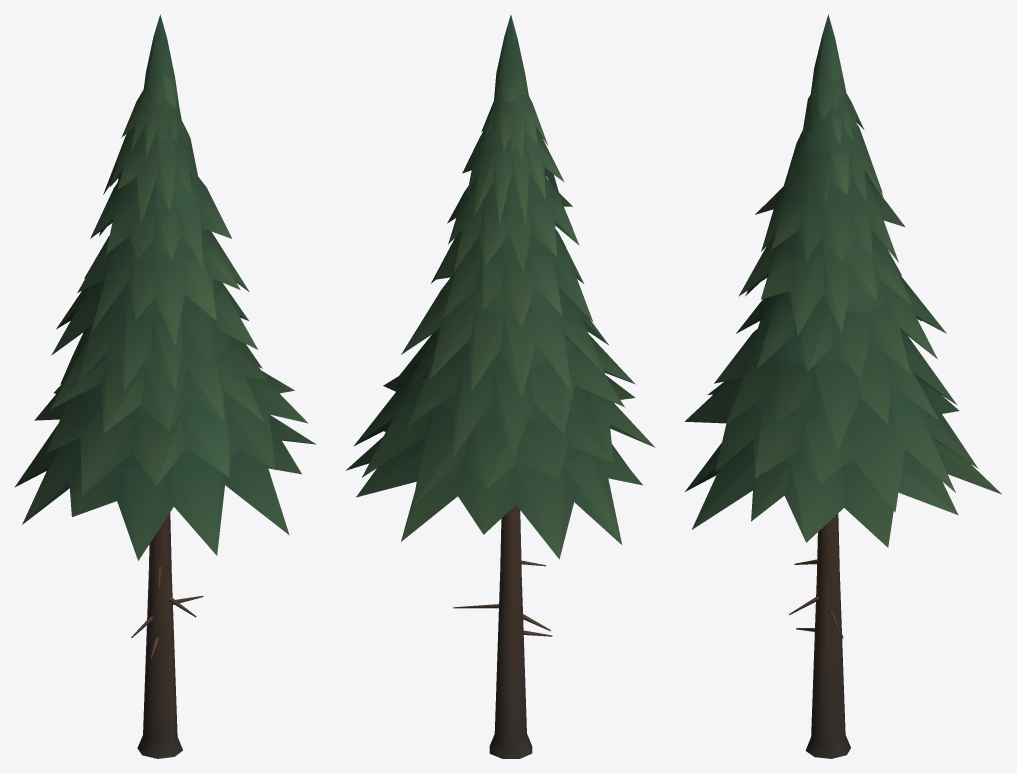
The model's file is pine_tall_a.glb.
3 renders of one model, left to right at view 1: azimuth 30°, elevation 25°; view 2: azimuth 150°, elevation 25°; view 3: azimuth 270°, elevation 25°, orthographic.
Visible parts, largest first — view 1: pine_tall_a; view 2: pine_tall_a; view 3: pine_tall_a.
Part boxes in pixels (x1,y1,x2,y2): pine_tall_a: [14, 14, 316, 758]; pine_tall_a: [346, 15, 655, 758]; pine_tall_a: [685, 14, 1001, 758].
Size of the model in its own units: 7.31 by 19 by 7.46.
